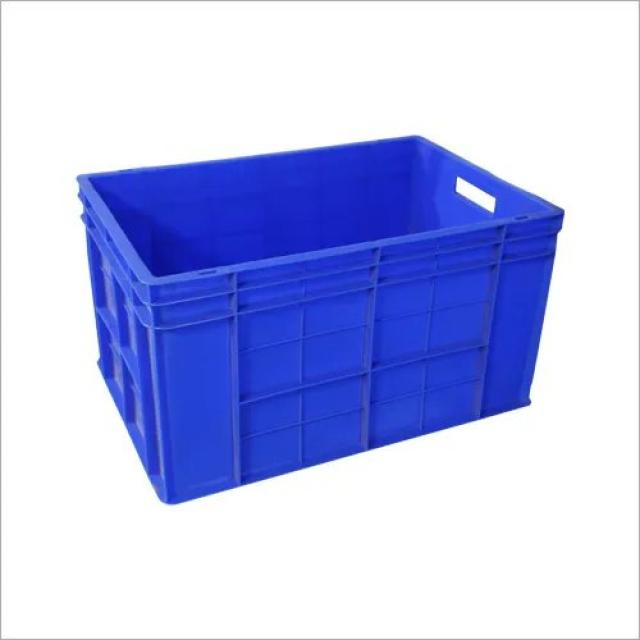basket: (77, 122, 589, 510)
